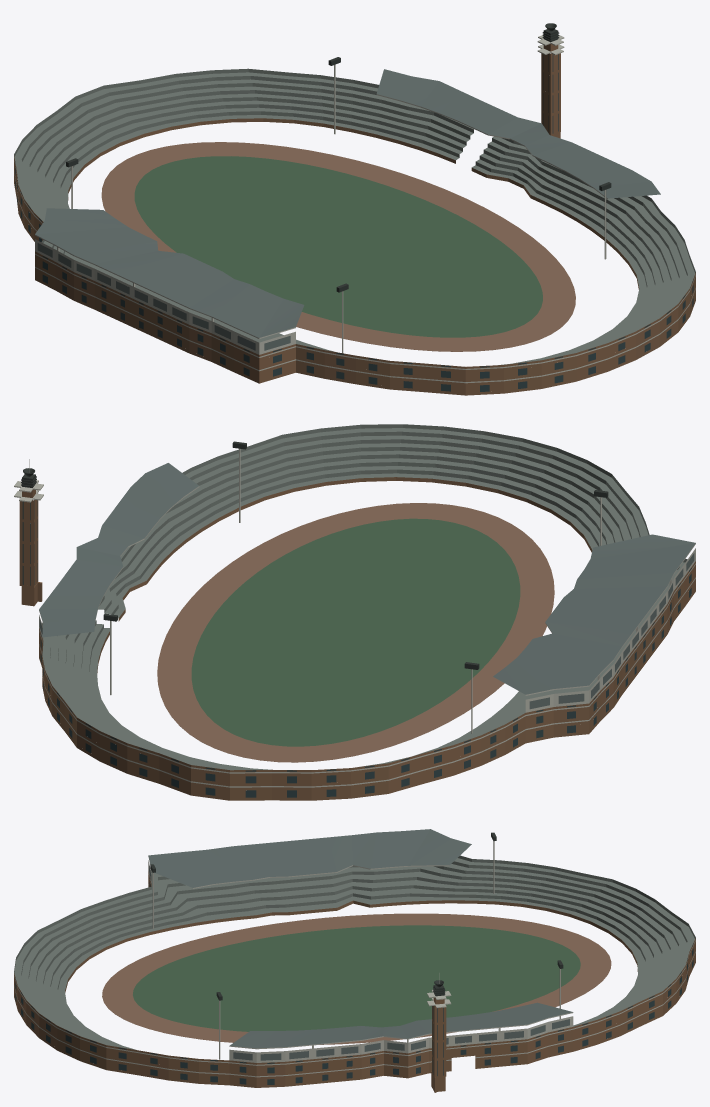
Rendered from olympic-stadium-amsterdam-far.glb.
3 renders of one model, top to bottom at view 1: azimuth 30°, elevation 25°; view 2: azimuth 150°, elevation 25°; view 3: azimuth 270°, elevation 25°, orthographic. The views are drawn at different scales.
Visible parts, largest first — view 1: olympic-stadium-amsterdam-0-grass, olympic-stadium-amsterdam-0-seat, olympic-stadium-amsterdam-0-roof, olympic-stadium-amsterdam-0-brick, olympic-stadium-amsterdam-0-track, olympic-stadium-amsterdam-0-steel, olympic-stadium-amsterdam-0-glass, olympic-stadium-amsterdam-0-iron; view 2: olympic-stadium-amsterdam-0-grass, olympic-stadium-amsterdam-0-seat, olympic-stadium-amsterdam-0-roof, olympic-stadium-amsterdam-0-brick, olympic-stadium-amsterdam-0-track, olympic-stadium-amsterdam-0-steel, olympic-stadium-amsterdam-0-glass, olympic-stadium-amsterdam-0-iron; view 3: olympic-stadium-amsterdam-0-grass, olympic-stadium-amsterdam-0-seat, olympic-stadium-amsterdam-0-brick, olympic-stadium-amsterdam-0-roof, olympic-stadium-amsterdam-0-track, olympic-stadium-amsterdam-0-steel, olympic-stadium-amsterdam-0-glass.
Part boxes in pixels (x1,y1,x2,y2): olympic-stadium-amsterdam-0-grass: (134, 156, 542, 337); olympic-stadium-amsterdam-0-seat: (14, 68, 695, 365); olympic-stadium-amsterdam-0-roof: (35, 69, 660, 350); olympic-stadium-amsterdam-0-brick: (14, 43, 695, 395); olympic-stadium-amsterdam-0-track: (101, 142, 575, 351); olympic-stadium-amsterdam-0-steel: (14, 35, 695, 383); olympic-stadium-amsterdam-0-glass: (15, 54, 693, 391); olympic-stadium-amsterdam-0-iron: (66, 23, 611, 292); olympic-stadium-amsterdam-0-grass: (191, 518, 520, 746); olympic-stadium-amsterdam-0-seat: (42, 424, 687, 770); olympic-stadium-amsterdam-0-roof: (39, 463, 695, 709); olympic-stadium-amsterdam-0-brick: (19, 477, 695, 800); olympic-stadium-amsterdam-0-track: (157, 503, 554, 762); olympic-stadium-amsterdam-0-steel: (14, 448, 695, 787); olympic-stadium-amsterdam-0-glass: (22, 500, 691, 797); olympic-stadium-amsterdam-0-iron: (21, 441, 608, 669); olympic-stadium-amsterdam-0-grass: (133, 925, 580, 1031); olympic-stadium-amsterdam-0-seat: (14, 855, 695, 1049); olympic-stadium-amsterdam-0-brick: (14, 871, 695, 1092); olympic-stadium-amsterdam-0-roof: (148, 829, 572, 1060); olympic-stadium-amsterdam-0-track: (102, 913, 611, 1044); olympic-stadium-amsterdam-0-steel: (14, 841, 695, 1077); olympic-stadium-amsterdam-0-glass: (15, 877, 693, 1084).
Bounding box in the file's own units: 190 × 46 × 242.
